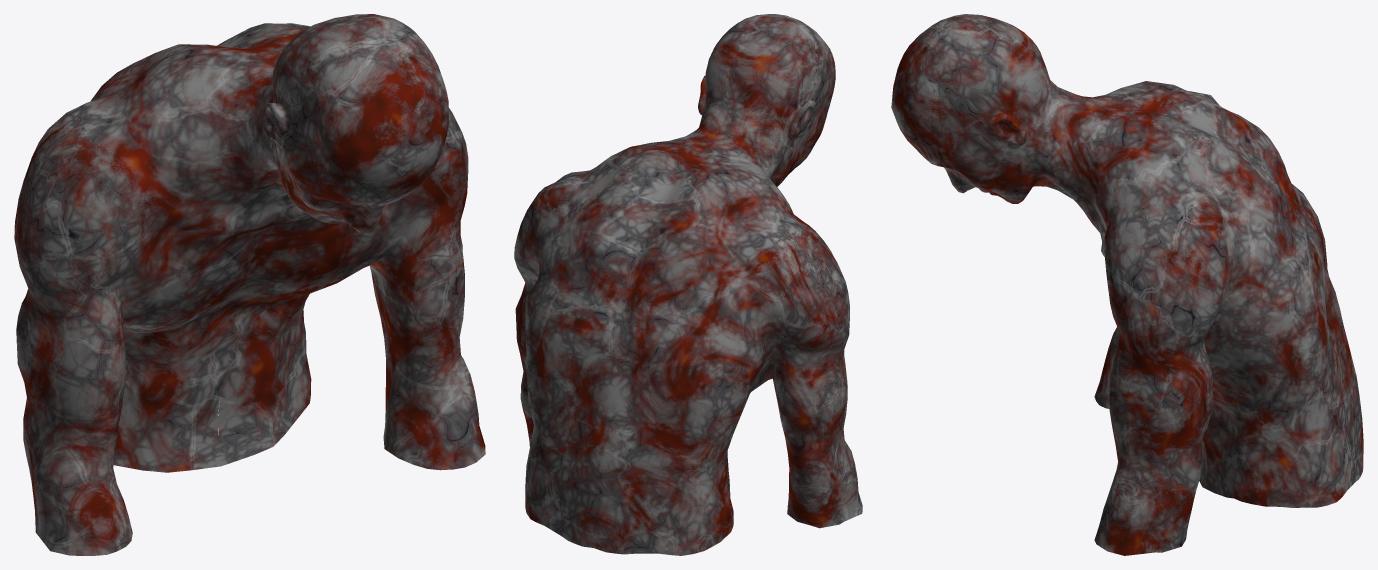
The model's file is Sculpt.fbx.
3 renders of one model, left to right at view 1: azimuth 30°, elevation 25°; view 2: azimuth 150°, elevation 25°; view 3: azimuth 270°, elevation 25°, orthographic. The views are drawn at different scales.
Visible parts, largest first — view 1: Plane.001; view 2: Plane.001; view 3: Plane.001.
Boxes of the visible parts, box(x1,y1,x2,y2) form: Plane.001: box(14, 14, 485, 555); Plane.001: box(514, 14, 862, 555); Plane.001: box(891, 14, 1363, 555).
Bounding box in the file's own units: 496 × 596 × 568.
